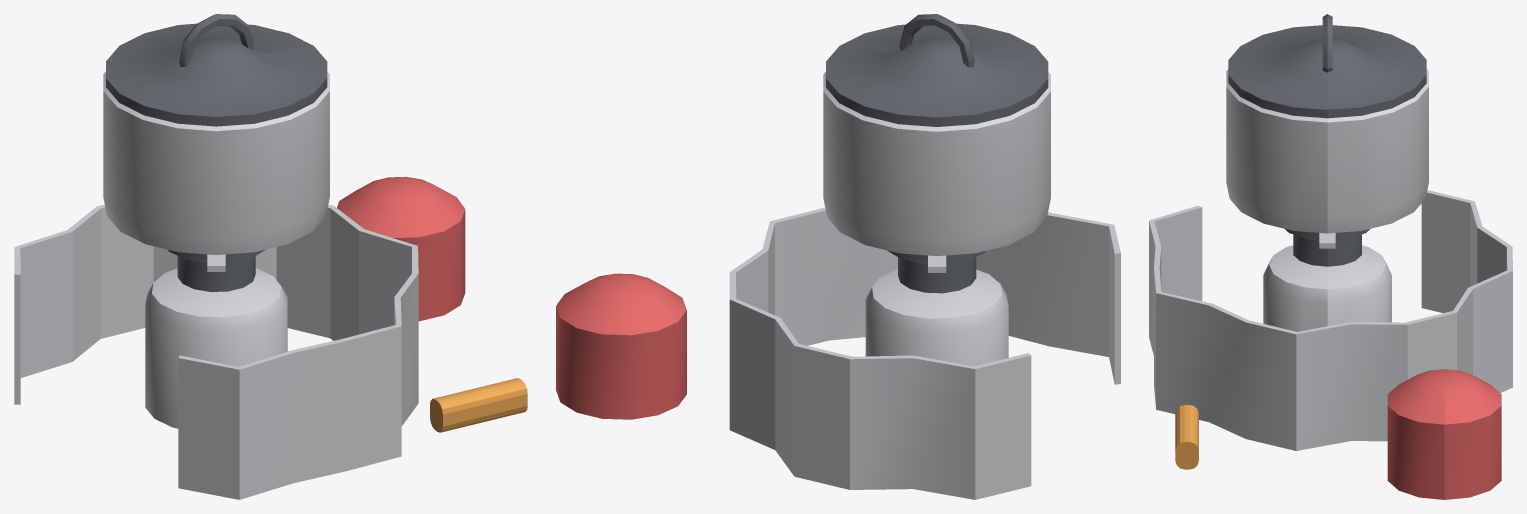
File: mountaineering-and-summit-expedition-stove-and-pot-set-938536d0__18823.glb
3 views of the same model, side by side, from view 1: azimuth 30°, elevation 25°; view 2: azimuth 150°, elevation 25°; view 3: azimuth 270°, elevation 25° (orthographic). The views are drawn at different scales.
Parts seen in each view (by area): view 1: stove-and-pot-set; view 2: stove-and-pot-set; view 3: stove-and-pot-set.
Boxes of the visible parts, x1,y1,x2,y2 form: stove-and-pot-set: (14, 14, 527, 499); stove-and-pot-set: (556, 14, 1120, 499); stove-and-pot-set: (1149, 14, 1512, 499).
Bounding box in the file's own units: 0.4009 × 0.333 × 0.311.
